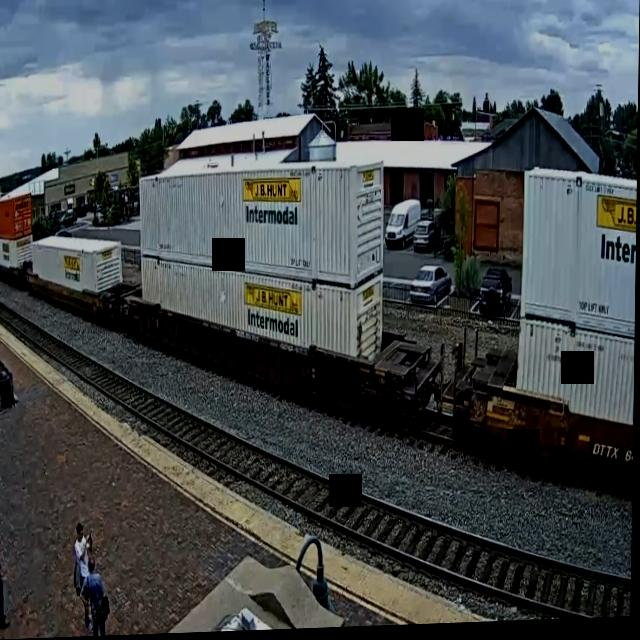container: (138, 157, 387, 302), (139, 247, 386, 371), (517, 158, 638, 354), (516, 311, 636, 439)
flatcar: (124, 289, 424, 454), (455, 364, 635, 516)
